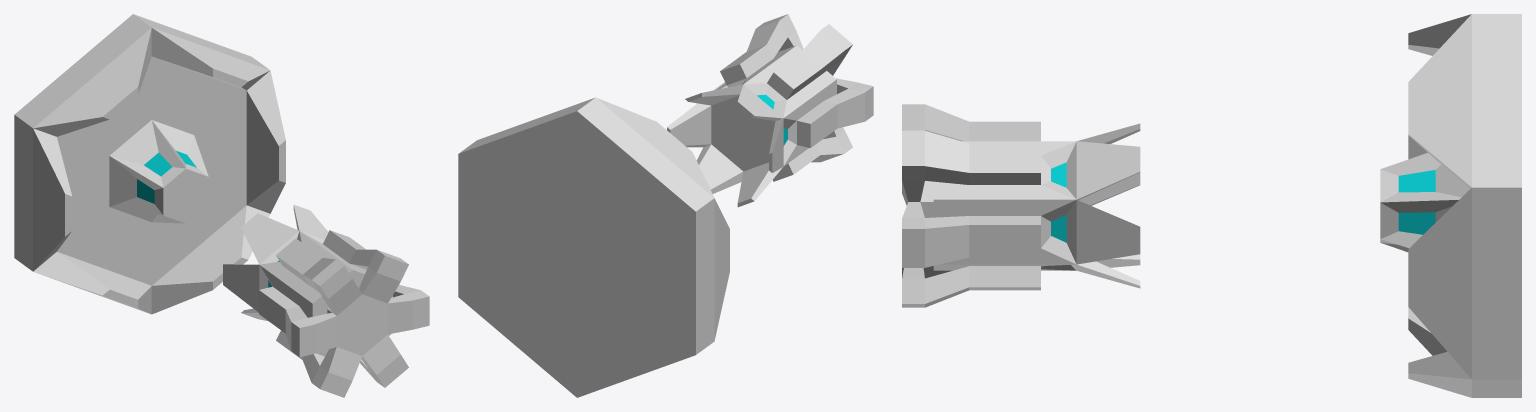
Rendered from Hexagon decoration5.fbx.
The picture shows the model from 3 angles, left to right: view 1: azimuth 30°, elevation 25°; view 2: azimuth 150°, elevation 25°; view 3: azimuth 270°, elevation 25°; orthographic projection. The views are drawn at different scales.
Visible parts, largest first — view 1: Circle.004; view 2: Circle.004; view 3: Circle.004.
Part boxes in pixels (x1,y1,x2,y2): Circle.004: [14, 14, 429, 397]; Circle.004: [458, 14, 873, 397]; Circle.004: [902, 14, 1521, 397].
Size of the model in its own units: 173 by 200 by 293.
